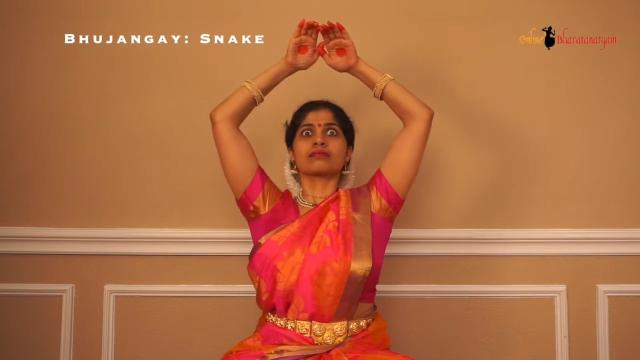sarpsheesh: (314, 3, 364, 83), (280, 5, 324, 75)
